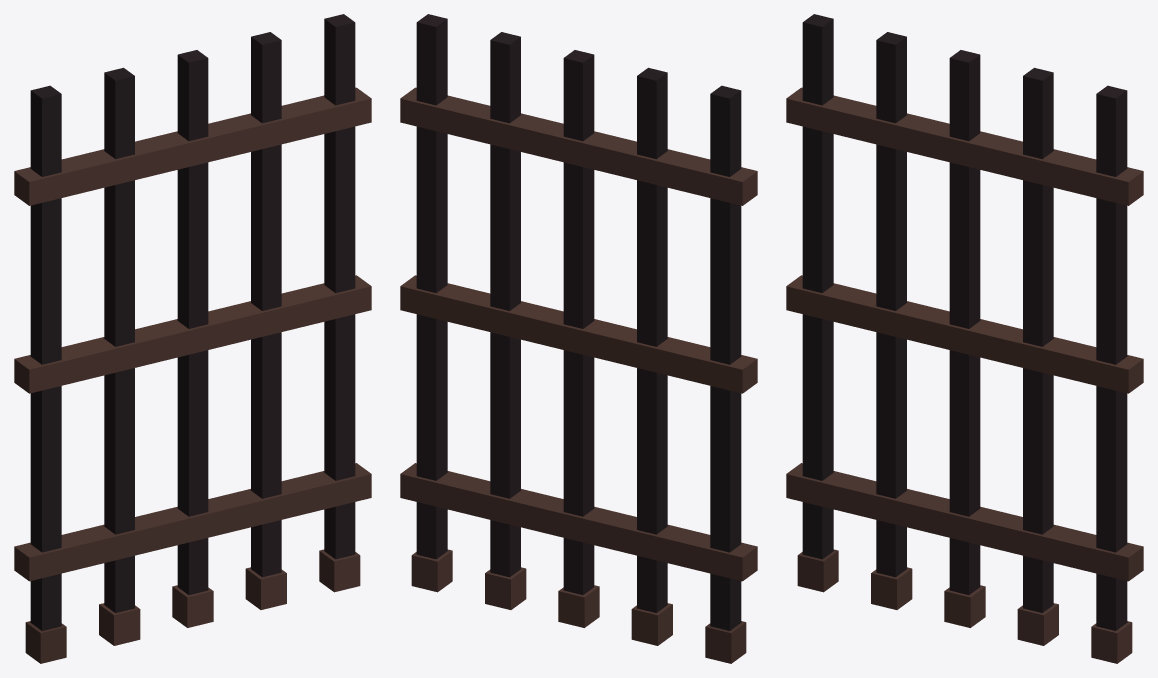
File: gate_door_4m.glb
3 views of the same model, side by side, from view 1: azimuth 30°, elevation 25°; view 2: azimuth 150°, elevation 25°; view 3: azimuth 330°, elevation 25° (orthographic).
Visible parts, largest first — view 1: gate_door_4m; view 2: gate_door_4m; view 3: gate_door_4m.
Boxes of the visible parts, x1,y1,x2,y2 form: gate_door_4m: (14,14,371,663); gate_door_4m: (400,14,757,663); gate_door_4m: (786,14,1143,663).
Bounding box in the file's own units: 2.1 × 3.3 × 0.16.
